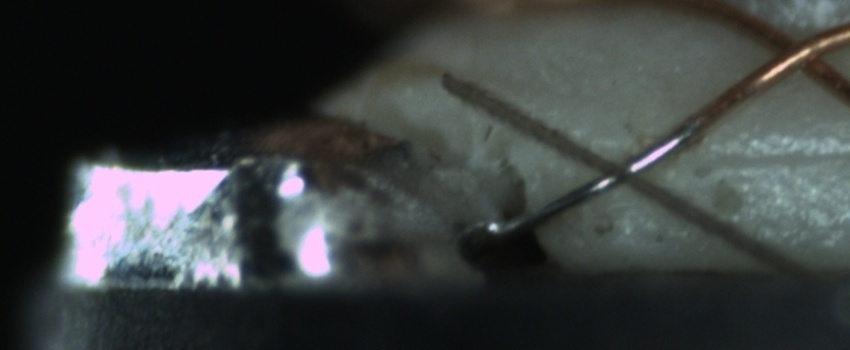CL: (573, 137, 658, 198)
DL: (681, 121, 847, 191)
TS: (495, 124, 700, 239)
TTCW: (476, 98, 689, 245)
